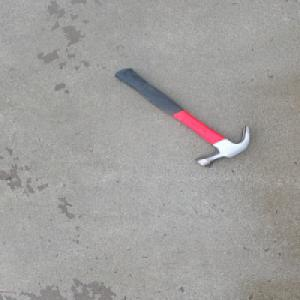Hammer: (111, 67, 253, 168)
